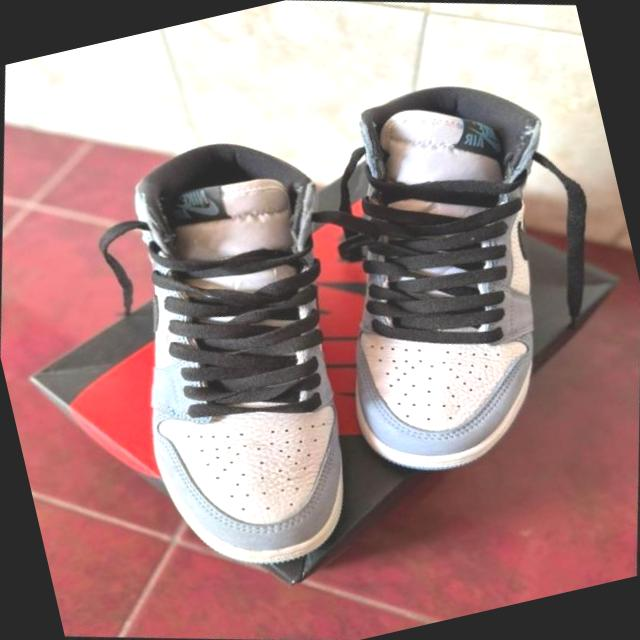nike_fake_jordan: (27, 86, 457, 620), (250, 37, 631, 516)
